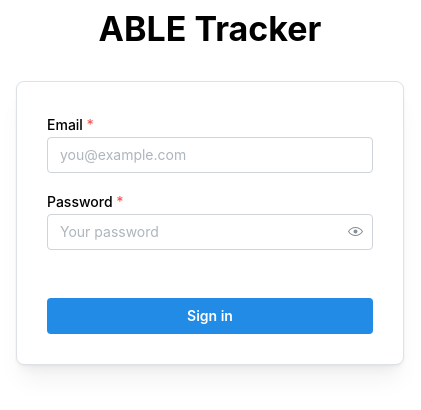
Login Page › shows validation error when password is empty on submit
# Fill in email but leave password empty
Type "test@example.com" into the field labelled "Email *" at (210, 155), box [47, 137, 373, 173]
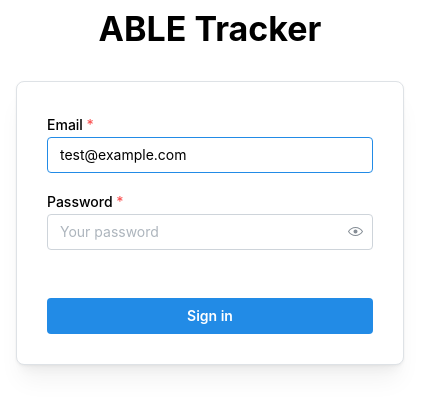
Click the button "Sign in" at (210, 316), box [47, 298, 373, 334]
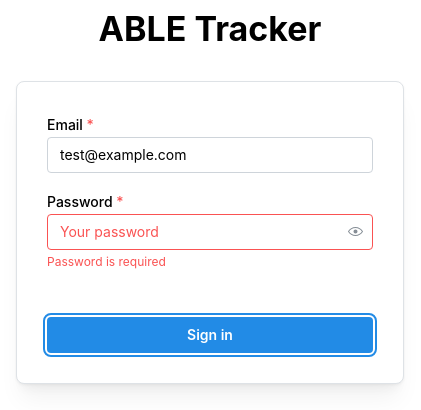
Expected: the text "Password is required" is shown, [47, 254, 166, 269]
